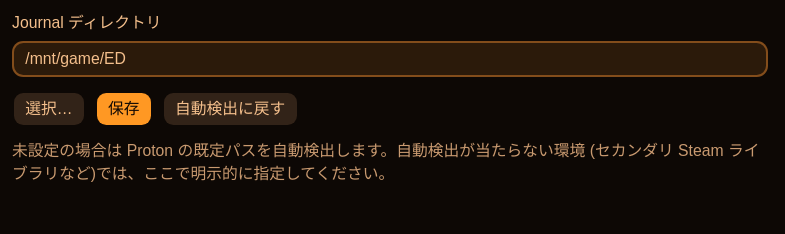
Test: 自動検出へ戻す › 押すと clear_journal_dir を呼び、入力欄が空になる
Expected: the field showing "/mnt/game/ED" is shown, left=12, top=41, right=768, bottom=77
Click the button "自動検出に戻す": (230, 109) left=162, top=91, right=299, bottom=127
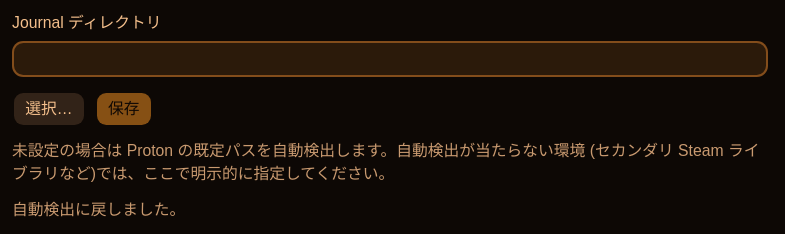
Expected: the text "自動検出に戻しました。" is shown, left=12, top=201, right=185, bottom=218
Expected: the field labelled "Journal ディレクトリ" is empty, left=12, top=41, right=768, bottom=77
